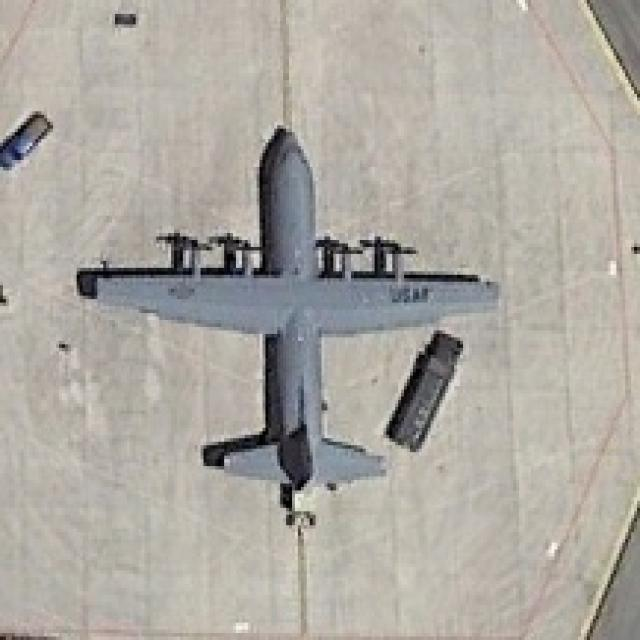C-130_TopDown: (71, 110, 505, 494)
